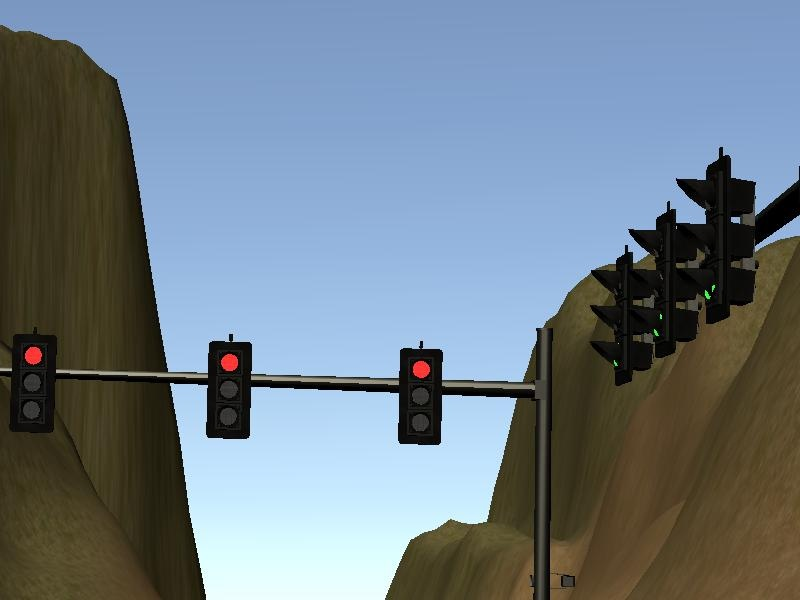red: (394, 341, 446, 450), (202, 332, 253, 443), (8, 329, 58, 439)
